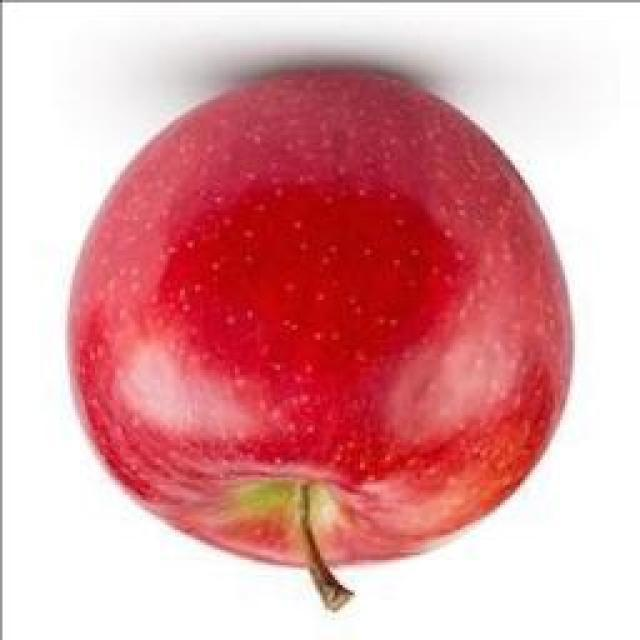Apple: (70, 69, 571, 584)
